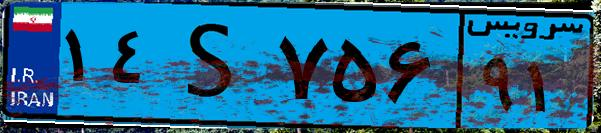1: (57, 26, 110, 100), (525, 38, 570, 115)
4: (110, 28, 158, 98)
5: (330, 28, 385, 110)
6: (385, 28, 445, 110)
7: (270, 28, 330, 110)
9: (475, 38, 525, 113)
S: (158, 12, 270, 120)
